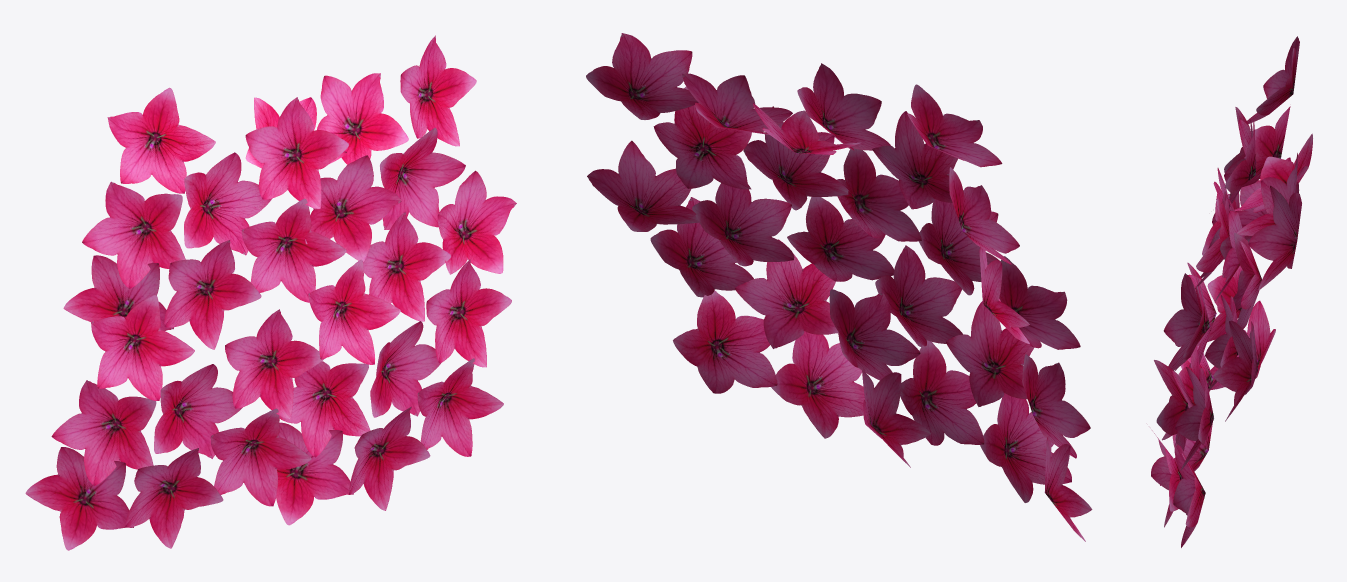
The model's file is SM_Flowers_01.fbx.
The picture shows the model from 3 angles, left to right: view 1: azimuth 30°, elevation 25°; view 2: azimuth 150°, elevation 25°; view 3: azimuth 270°, elevation 25°; orthographic projection. The views are drawn at different scales.
Visible parts, largest first — view 1: SM_Flowers_01_LOD0; view 2: SM_Flowers_01_LOD0; view 3: SM_Flowers_01_LOD0.
Part boxes in pixels (bbox=[...]): SM_Flowers_01_LOD0: bbox=[25, 35, 516, 550]; SM_Flowers_01_LOD0: bbox=[586, 33, 1092, 541]; SM_Flowers_01_LOD0: bbox=[1151, 36, 1312, 547].
Bounding box in the file's own units: 511 × 174 × 420.
Materials: 1 (1 with a texture image).
